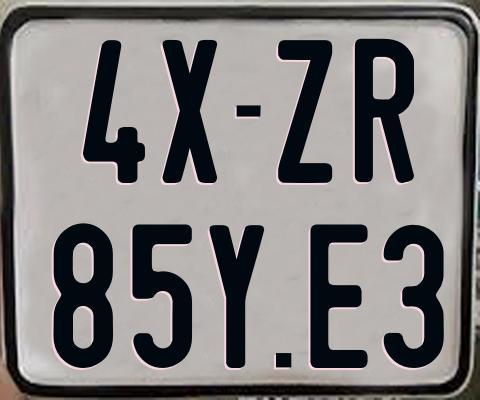3: (381, 224, 442, 372)
4: (83, 38, 151, 185)
5: (132, 221, 198, 365)
8: (52, 221, 116, 368)
E: (307, 222, 371, 366)
R: (355, 38, 417, 183)
X: (161, 37, 217, 183)
Y: (208, 225, 269, 372)
Z: (277, 38, 333, 182)
